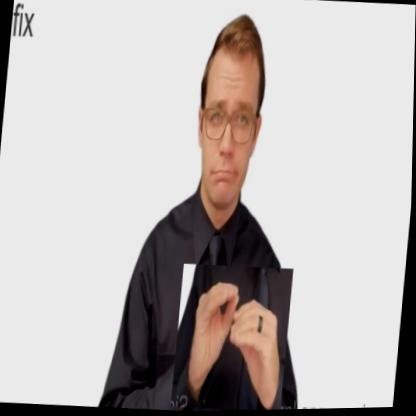Fix: (172, 263, 294, 413)
